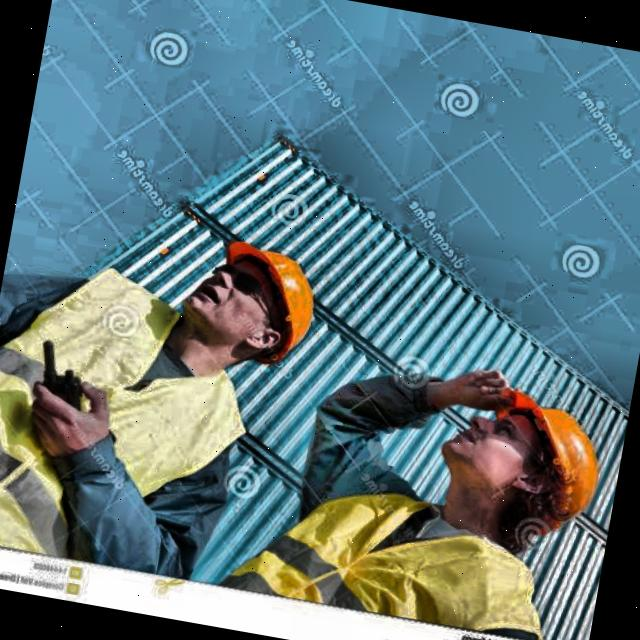helmet: (430, 382, 610, 539), (177, 233, 330, 371)
